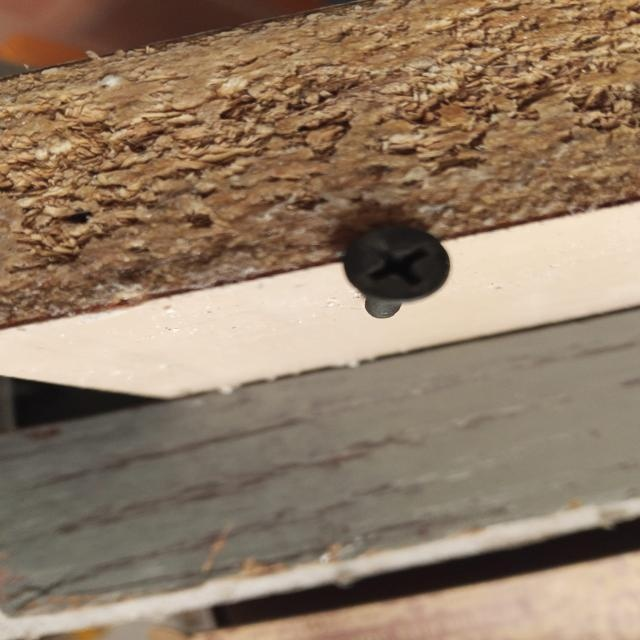phillips: (341, 222, 451, 302)
